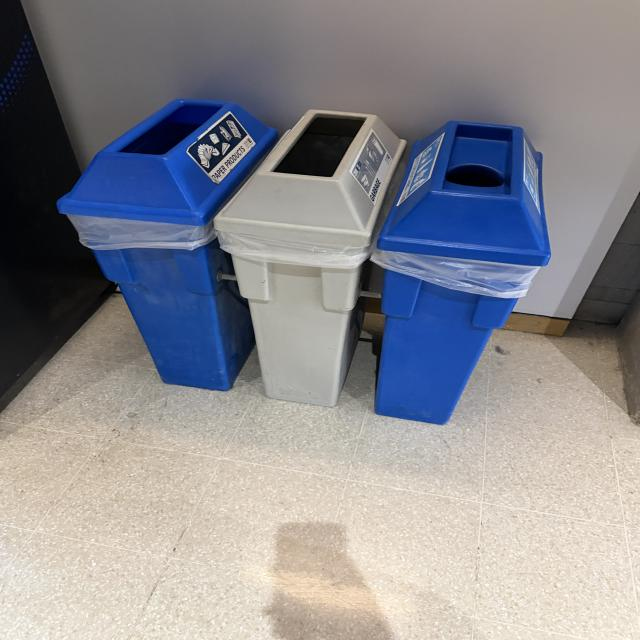Dustbin: (57, 96, 556, 427)
